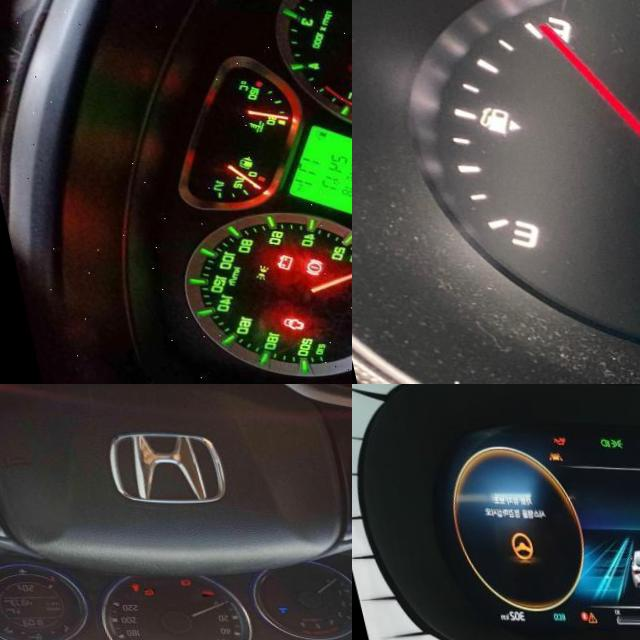Central Warning lamp: (569, 611, 580, 623)
LaneCenteringOff: (538, 450, 553, 460)
Low beam: (591, 437, 601, 447)
SideLamp: (600, 436, 614, 448)
